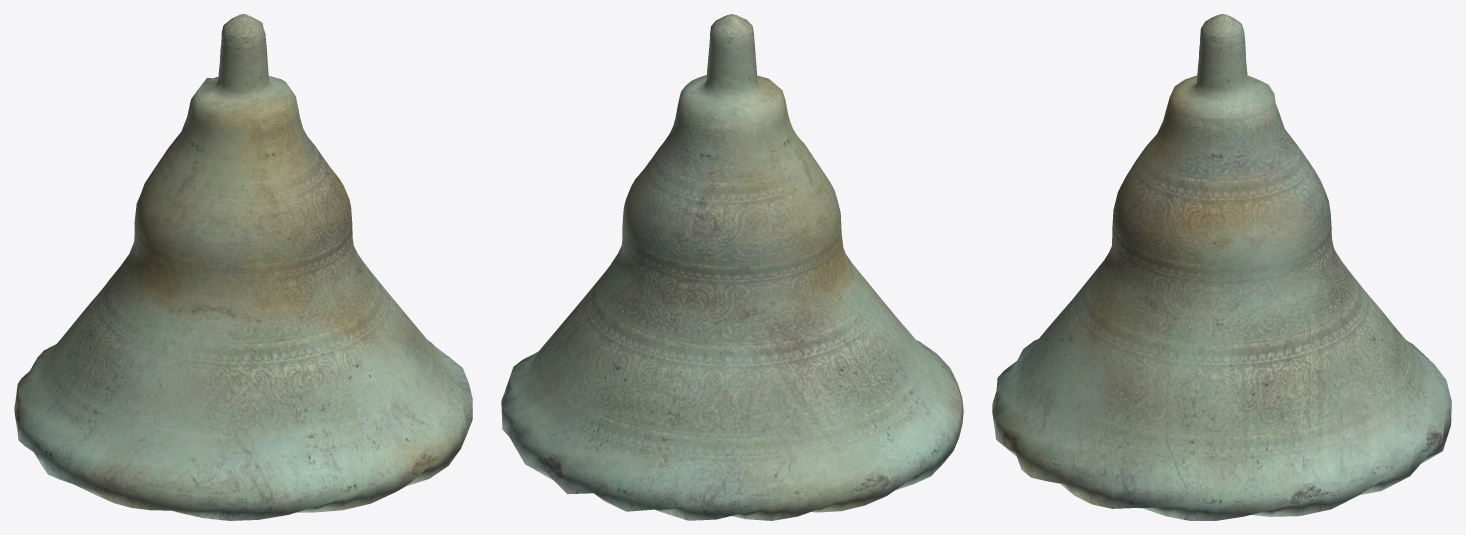
The model's file is bad-_bell-04lp.glb.
The picture shows the model from 3 angles, left to right: view 1: azimuth 30°, elevation 25°; view 2: azimuth 150°, elevation 25°; view 3: azimuth 270°, elevation 25°; orthographic projection.
Parts seen in each view (by area): view 1: Object_2; view 2: Object_2; view 3: Object_2.
Boxes of the visible parts, x1,y1,x2,y2 form: Object_2: [14, 14, 472, 520]; Object_2: [501, 14, 963, 520]; Object_2: [992, 14, 1451, 520].
Bounding box in the file's own units: 128 × 142 × 128.
Materials: 1 (1 with a texture image).
